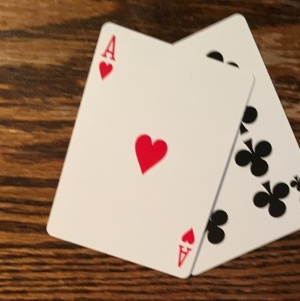card: (47, 21, 252, 280)
